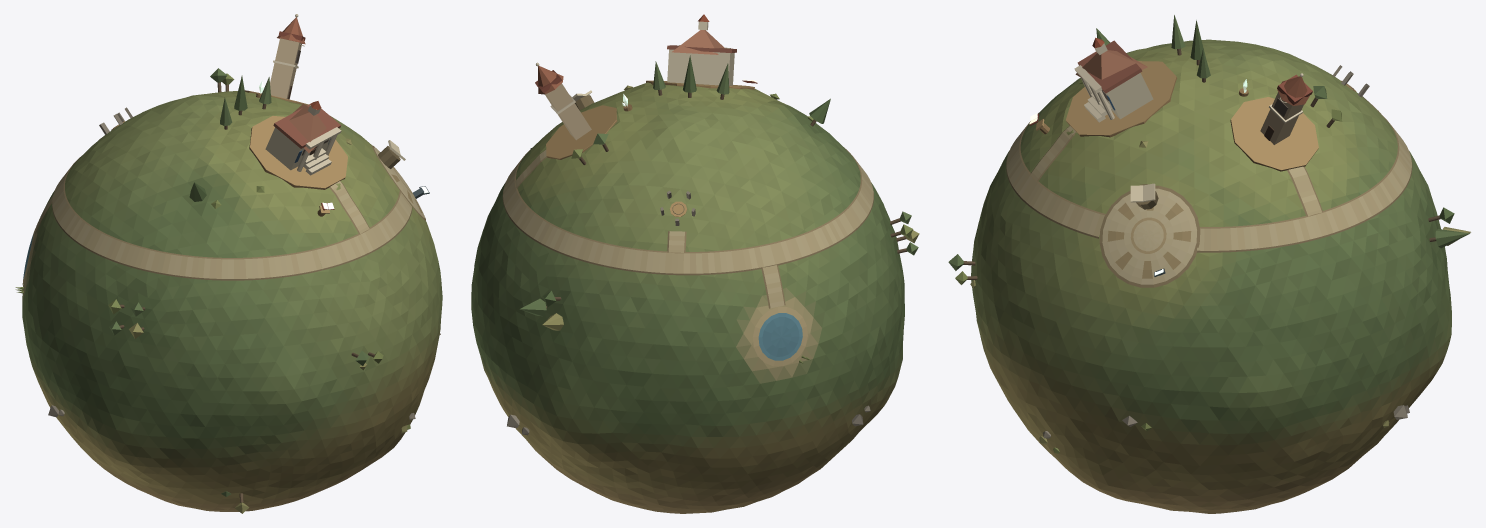
The model's file is learning-v1.glb.
3 views of the same model, side by side, from view 1: azimuth 30°, elevation 25°; view 2: azimuth 150°, elevation 25°; view 3: azimuth 270°, elevation 25° (orthographic). The views are drawn at different scales.
Visible parts, largest first — view 1: LEARNING_TERRAIN, LEARNING_PATHS_PAVING, LEARNING_DECORATIONS_STATIC, ACADEMY_HALL, ACADEMY_TOWER; view 2: LEARNING_TERRAIN, LEARNING_PATHS_PAVING, LEARNING_DECORATIONS_STATIC, ACADEMY_HALL, ACADEMY_TOWER; view 3: LEARNING_TERRAIN, LEARNING_PATHS_PAVING, LEARNING_DECORATIONS_STATIC, ACADEMY_HALL, ACADEMY_TOWER, BOOK_MONUMENT.
Boxes of the visible parts, bbox=[...] form: LEARNING_TERRAIN: bbox=[22, 91, 442, 511]; LEARNING_PATHS_PAVING: bbox=[22, 138, 425, 284]; LEARNING_DECORATIONS_STATIC: bbox=[15, 68, 440, 513]; ACADEMY_HALL: bbox=[265, 101, 341, 175]; ACADEMY_TOWER: bbox=[270, 14, 305, 99]; LEARNING_TERRAIN: bbox=[471, 82, 904, 513]; LEARNING_PATHS_PAVING: bbox=[502, 147, 873, 366]; LEARNING_DECORATIONS_STATIC: bbox=[507, 55, 919, 435]; ACADEMY_HALL: bbox=[667, 14, 736, 85]; ACADEMY_TOWER: bbox=[535, 62, 591, 140]; LEARNING_TERRAIN: bbox=[971, 39, 1451, 513]; LEARNING_PATHS_PAVING: bbox=[1006, 96, 1412, 287]; LEARNING_DECORATIONS_STATIC: bbox=[948, 15, 1470, 453]; ACADEMY_HALL: bbox=[1074, 37, 1153, 122]; ACADEMY_TOWER: bbox=[1260, 73, 1312, 144]; BOOK_MONUMENT: bbox=[1130, 183, 1158, 209].
Size of the model in its own units: 8.46 by 9.32 by 9.3.
